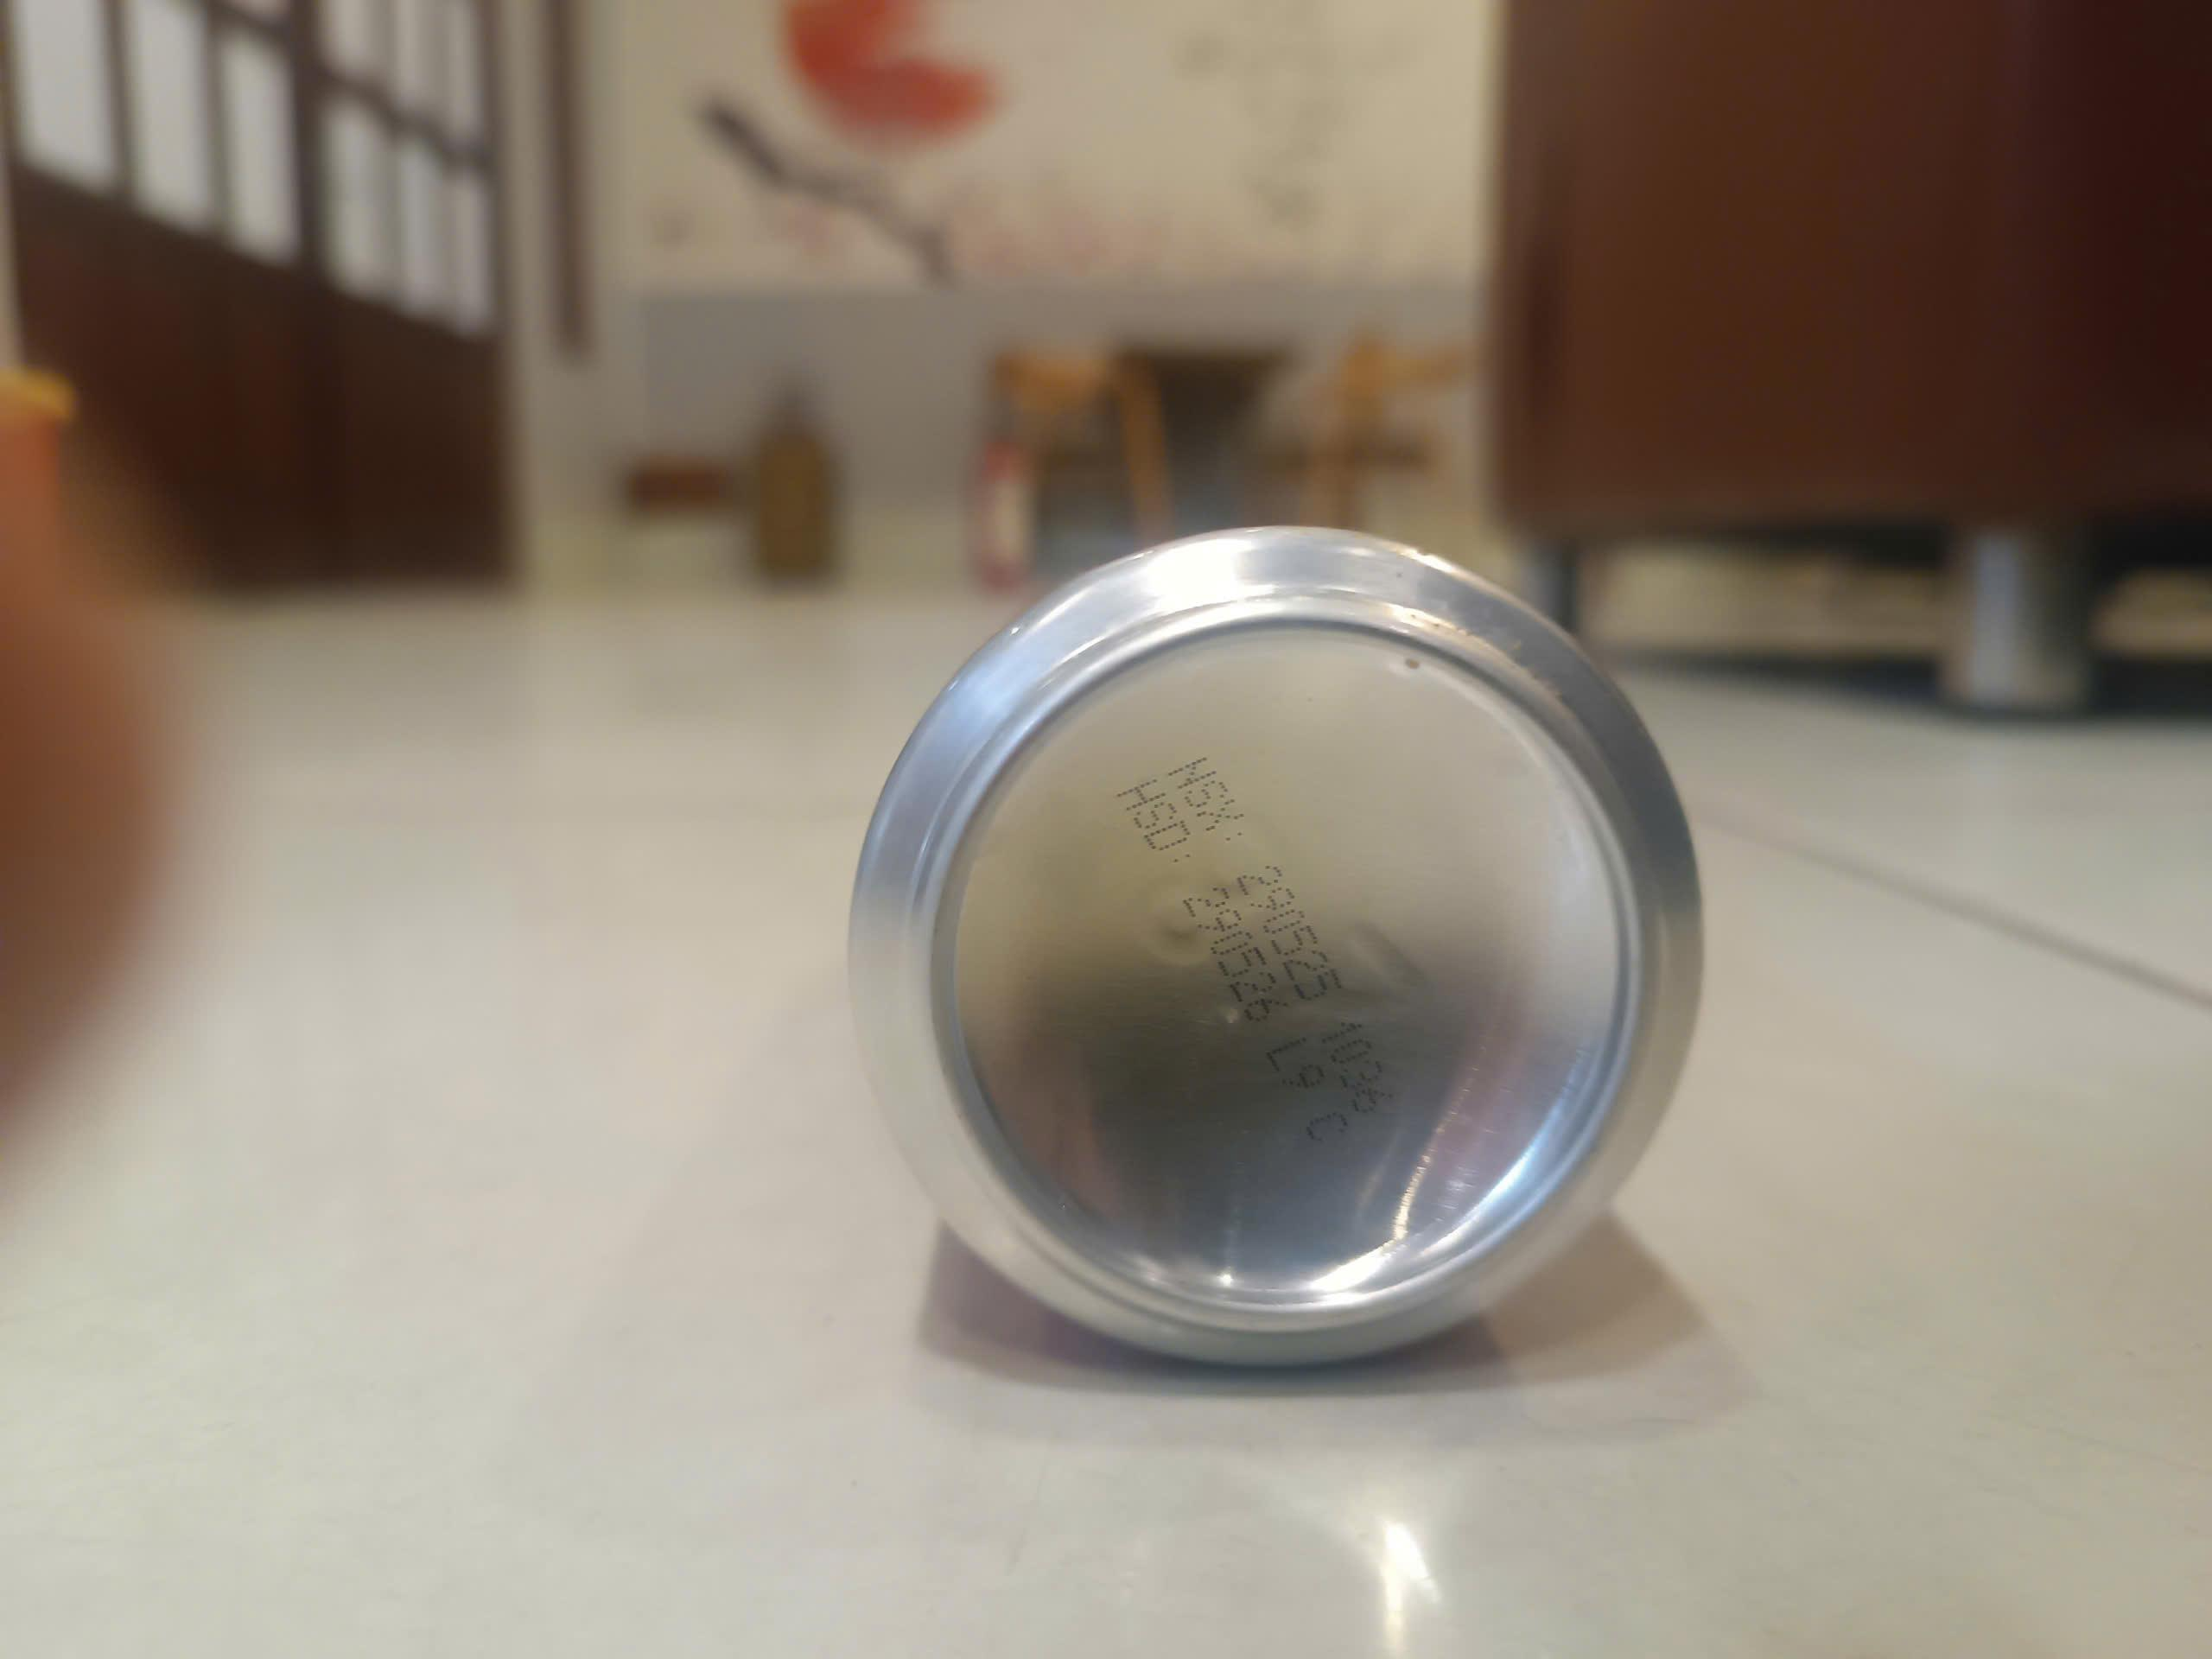Vo co: (845, 528, 1710, 1380)
